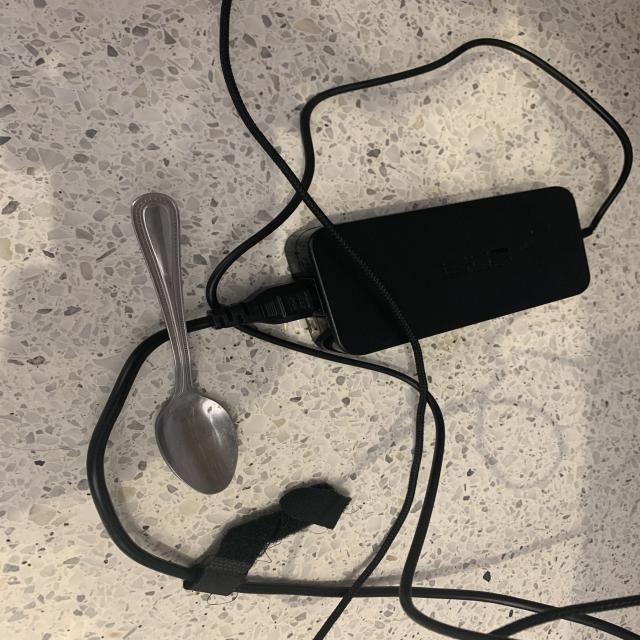Spoon: (122, 187, 246, 500)
